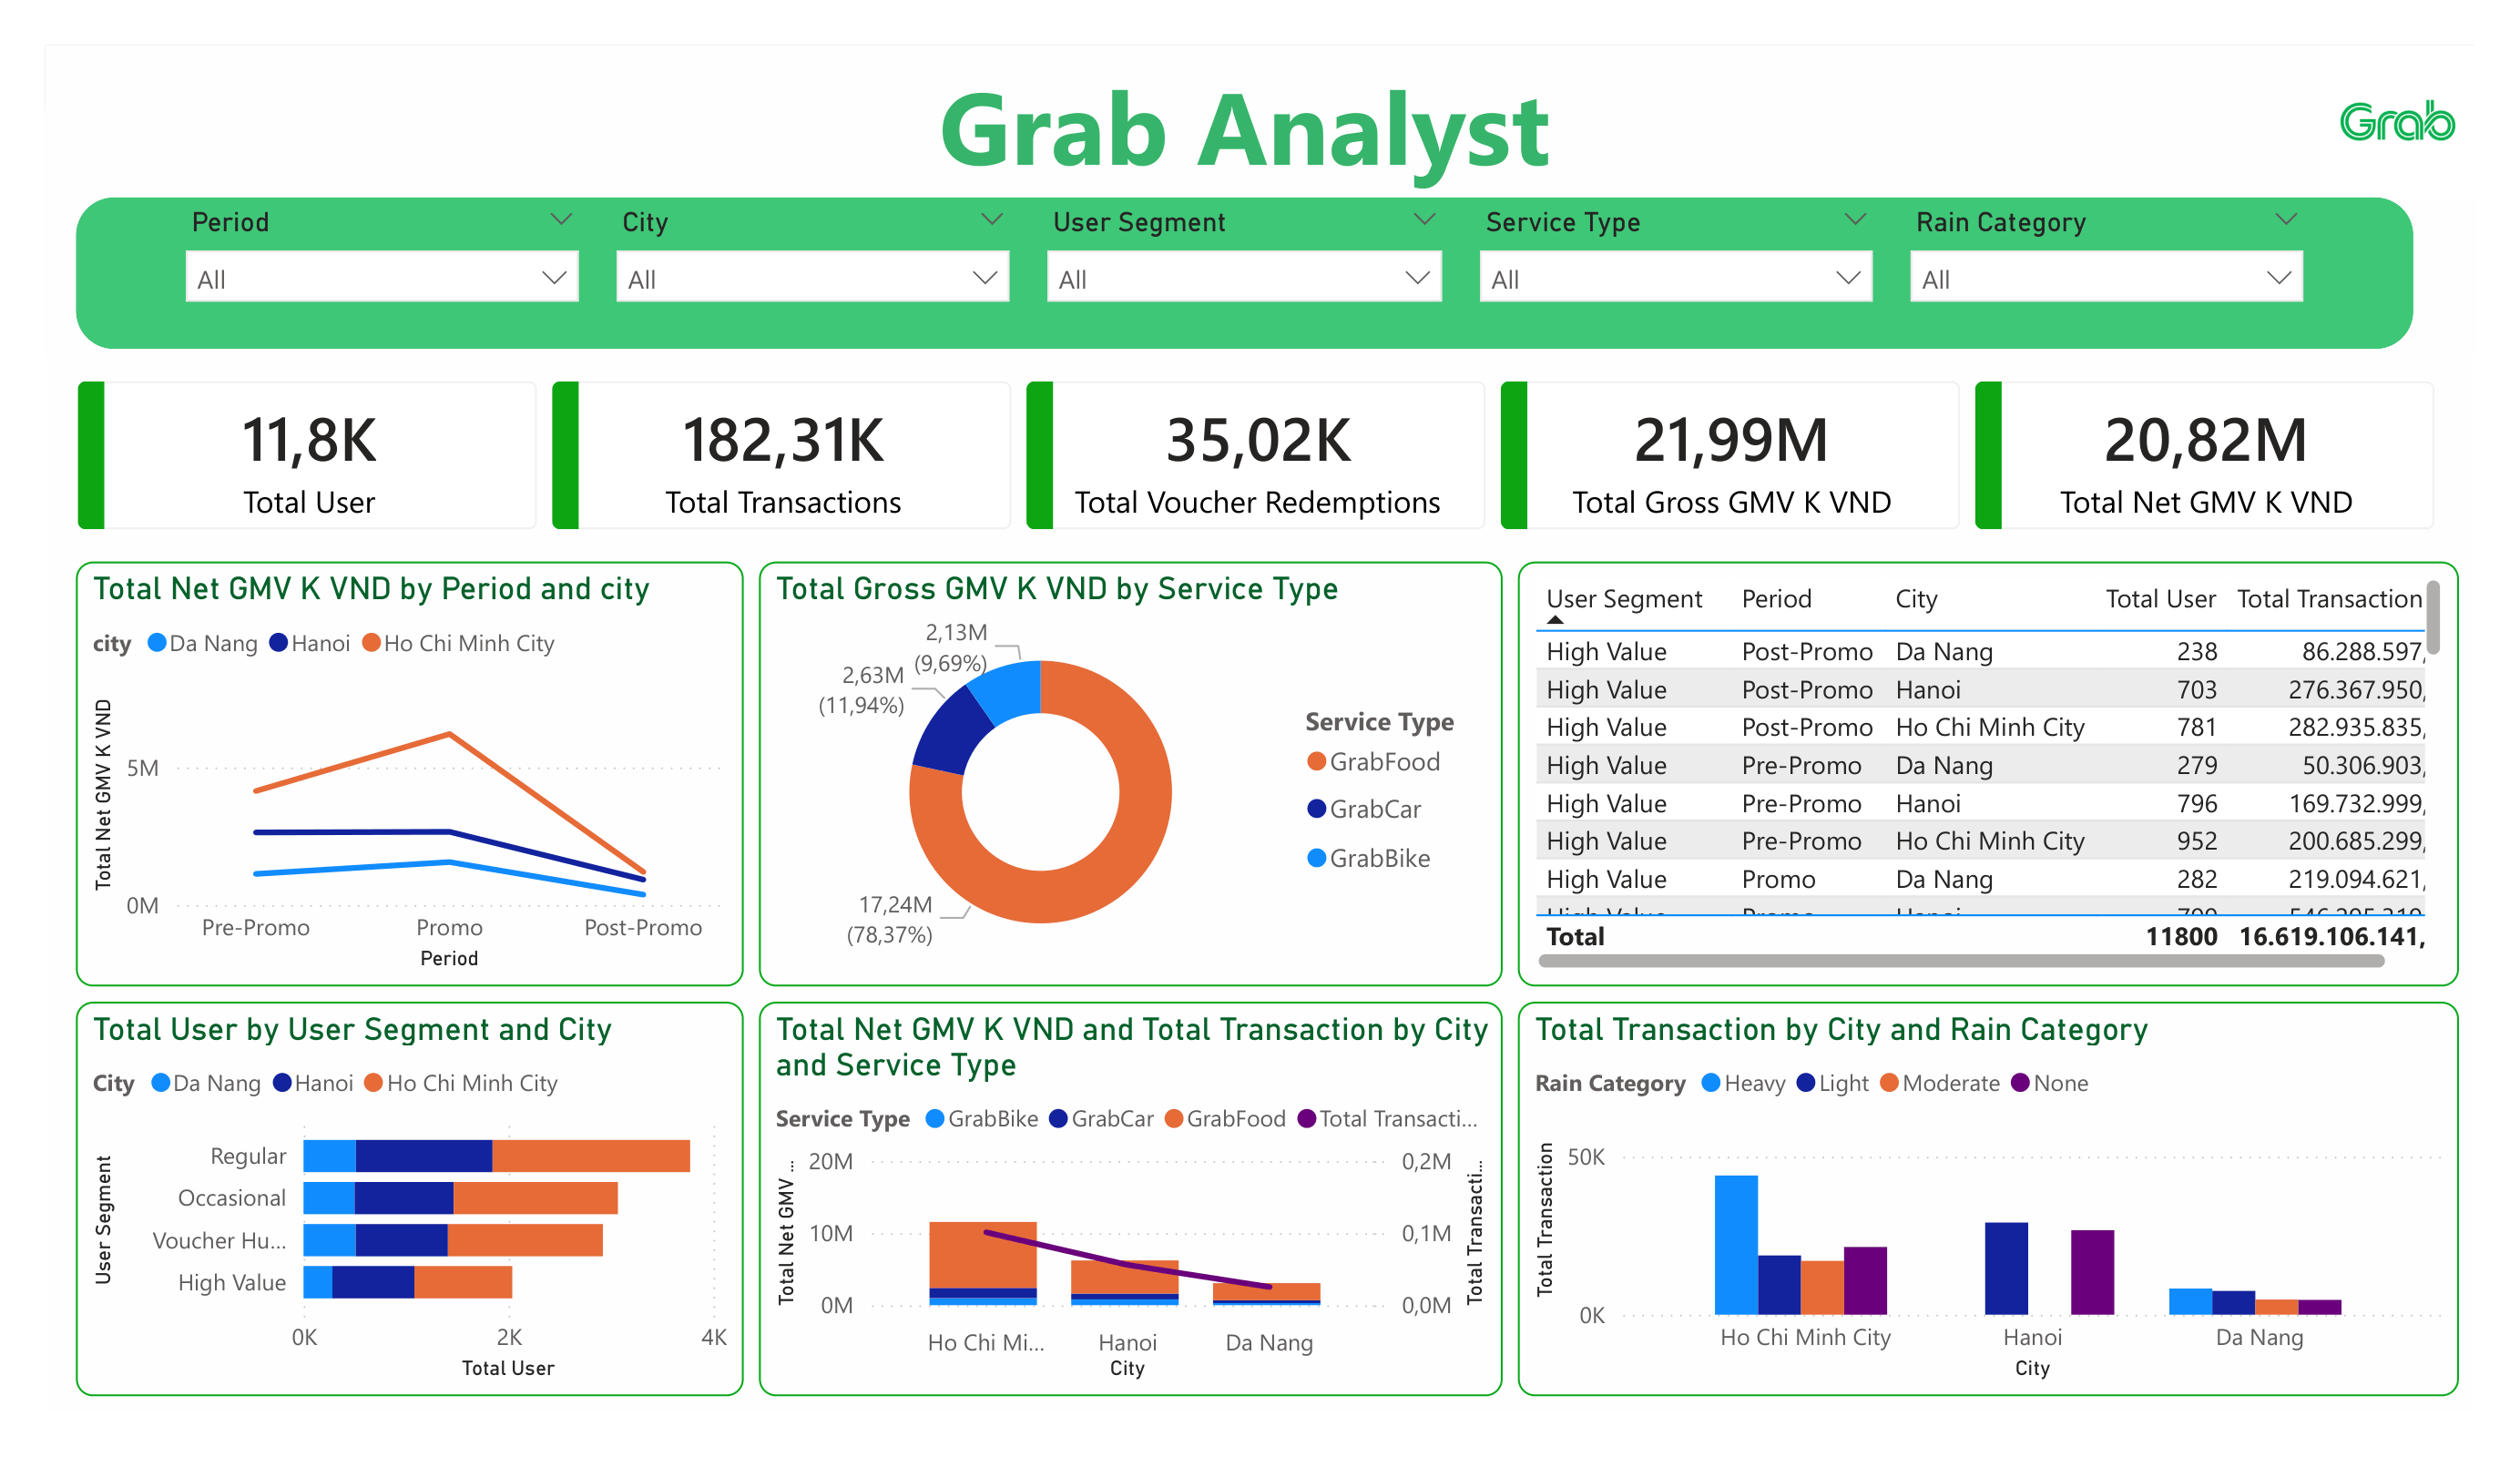

Layout of this report page (visuals, bound fields, positions):
{"tool":"powerbi","page":{"name":"Page 1","canvas":[1280,720],"ordinal":0},"visuals":[{"type":"cardVisual","fields":{"Data":["Count(transactions.user_id)","Sum(daily_gmv_summary.n_transactions)","Sum(daily_gmv_summary.n_voucher_redemptions)","Sum(daily_gmv_summary.gross_gmv_k_vnd)","Sum(daily_gmv_summary.net_gmv_k_vnd)"]},"box":[0,160,1280,112],"z":0},{"type":"image","box":[1200,0,80,80],"z":1000},{"type":"textbox","box":[112,0,1040,96],"z":2000},{"type":"lineChart","fields":{"Series":["daily_gmv_summary.city"],"Category":["Period_Dim.period"],"Y":["Sum(daily_gmv_summary.net_gmv_k_vnd)"]},"box":[0,272,368,224],"z":3000},{"type":"donutChart","fields":{"Category":["daily_gmv_summary.service_type"],"Y":["Sum(daily_gmv_summary.gross_gmv_k_vnd)"]},"box":[368,272,400,224],"z":4000},{"type":"shape","box":[16,80,1232,80],"z":5000},{"type":"group","id":"g1","title":"Group 1","box":[64,80,1136,80],"z":6000},{"type":"slicer","fields":{"Values":["daily_gmv_summary.period"]},"box":[64,80,227.2,80],"z":6000,"group":"g1"},{"type":"slicer","fields":{"Values":["daily_gmv_summary.city"]},"box":[291.2,80,227.2,80],"z":7000,"group":"g1"},{"type":"tableEx","fields":{"Values":["users.user_segment","transactions.period","transactions.city","Count(transactions.user_id)","Sum(transactions.transaction_id)"]},"box":[768,272,512,224],"z":7000},{"type":"slicer","fields":{"Values":["users.user_segment"]},"box":[518.4,80,227.2,80],"z":8000,"group":"g1"},{"type":"barChart","fields":{"Category":["users.user_segment"],"Y":["Count(users.user_id)"],"Series":["users.city"]},"box":[0,496,384,224],"z":8000},{"type":"slicer","fields":{"Values":["daily_gmv_summary.service_type"]},"box":[745.6,80,227.2,80],"z":9000,"group":"g1"},{"type":"lineStackedColumnComboChart","fields":{"Category":["daily_gmv_summary.city"],"Series":["daily_gmv_summary.service_type"],"Y2":["Sum(daily_gmv_summary.n_transactions)"],"Y":["Sum(daily_gmv_summary.net_gmv_k_vnd)"]},"box":[368,496,400,224],"z":9000},{"type":"slicer","fields":{"Values":["weather_daily.rain_category"]},"box":[972.8,80,227.2,80],"z":10000,"group":"g1"},{"type":"clusteredColumnChart","fields":{"Category":["transactions.city"],"Y":["Count(transactions.transaction_id)"],"Series":["weather_daily.rain_category"]},"box":[768,496,512,224],"z":10000}]}

Visuals, with their boxes in screenshot pixels (x1, y1, x2, y2):
cardVisual - Count(transactions.user_id) x Sum(daily_gmv_summary.n_transactions): x1=59, y1=339, x2=2456, y2=549
image: x1=2306, y1=39, x2=2456, y2=189
textbox: x1=269, y1=39, x2=2217, y2=219
lineChart - daily_gmv_summary.city x Period_Dim.period: x1=59, y1=549, x2=749, y2=968
donutChart - daily_gmv_summary.service_type x Sum(daily_gmv_summary.gross_gmv_k_vnd): x1=749, y1=549, x2=1497, y2=968
shape: x1=89, y1=189, x2=2396, y2=339
"Group 1" group: x1=179, y1=189, x2=2306, y2=339
slicer - daily_gmv_summary.period: x1=179, y1=189, x2=605, y2=339
slicer - daily_gmv_summary.city: x1=605, y1=189, x2=1030, y2=339
tableEx - users.user_segment x transactions.period: x1=1497, y1=549, x2=2456, y2=968
slicer - users.user_segment: x1=1030, y1=189, x2=1455, y2=339
barChart - users.user_segment x Count(users.user_id): x1=59, y1=968, x2=778, y2=1388
slicer - daily_gmv_summary.service_type: x1=1455, y1=189, x2=1881, y2=339
lineStackedColumnComboChart - daily_gmv_summary.city x daily_gmv_summary.service_type: x1=749, y1=968, x2=1497, y2=1388
slicer - weather_daily.rain_category: x1=1881, y1=189, x2=2306, y2=339
clusteredColumnChart - transactions.city x Count(transactions.transaction_id): x1=1497, y1=968, x2=2456, y2=1388
